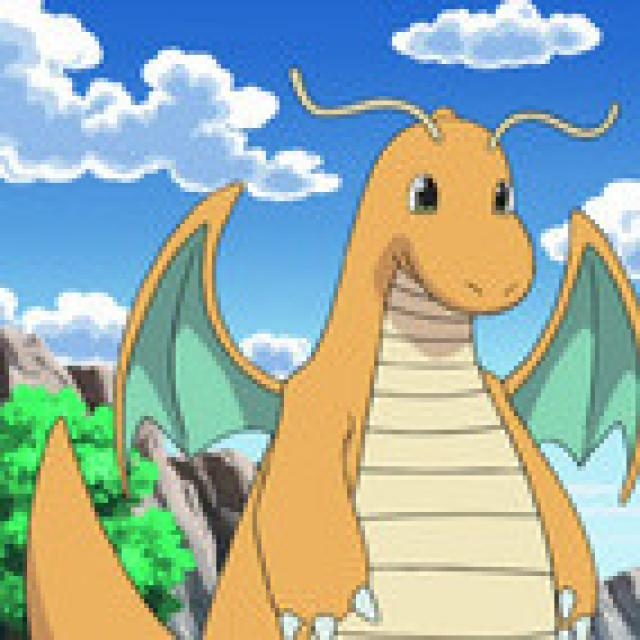Dragonite: (238, 106, 623, 640)
